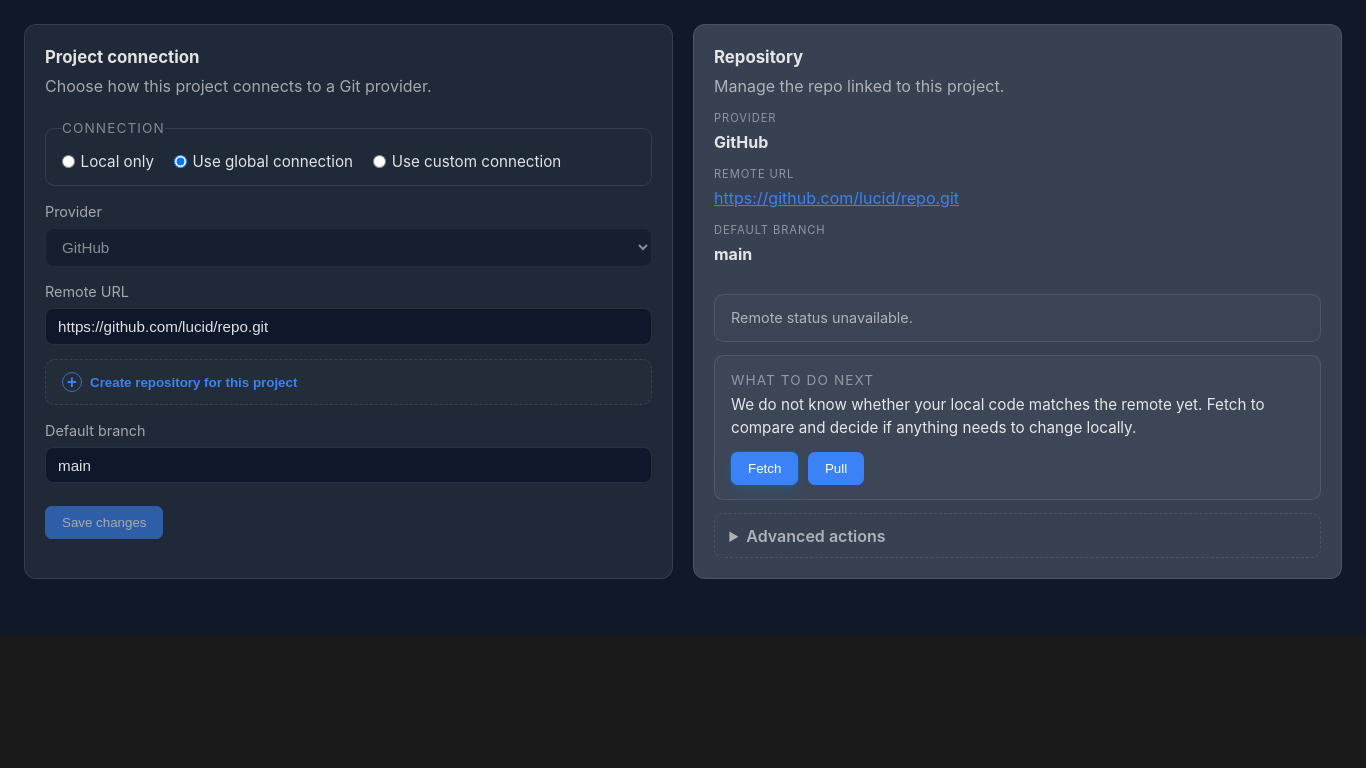
Test case: GitTab › switching to local connection hides remote panes
Click the radio button with test id "project-connection-local".
click(68, 162)  # box [62, 156, 75, 168]
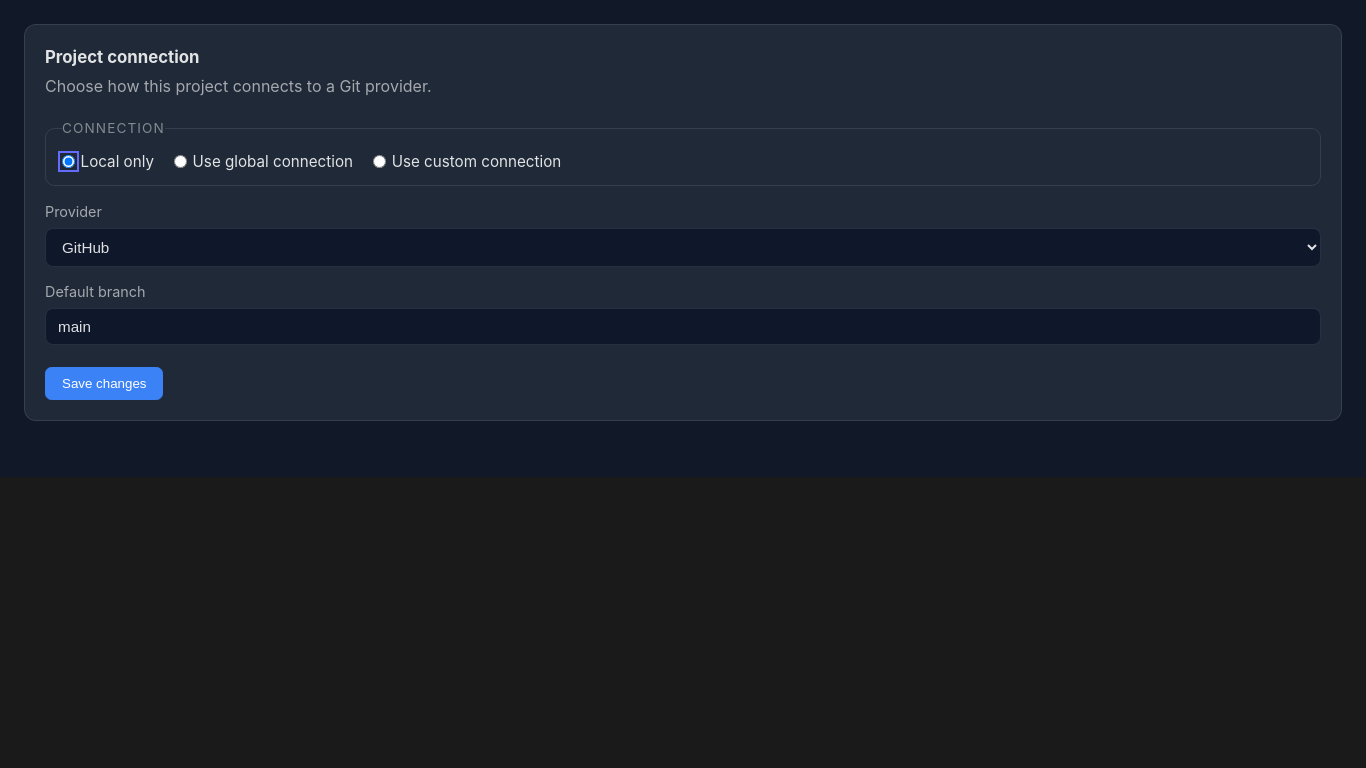
Result: the element with test id "git-repo-pane" is gone
